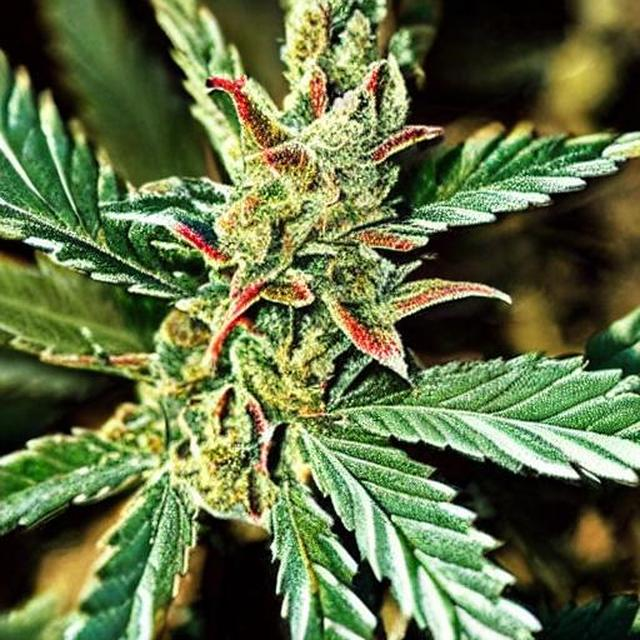Marijuana Joint: (1, 1, 543, 528)
